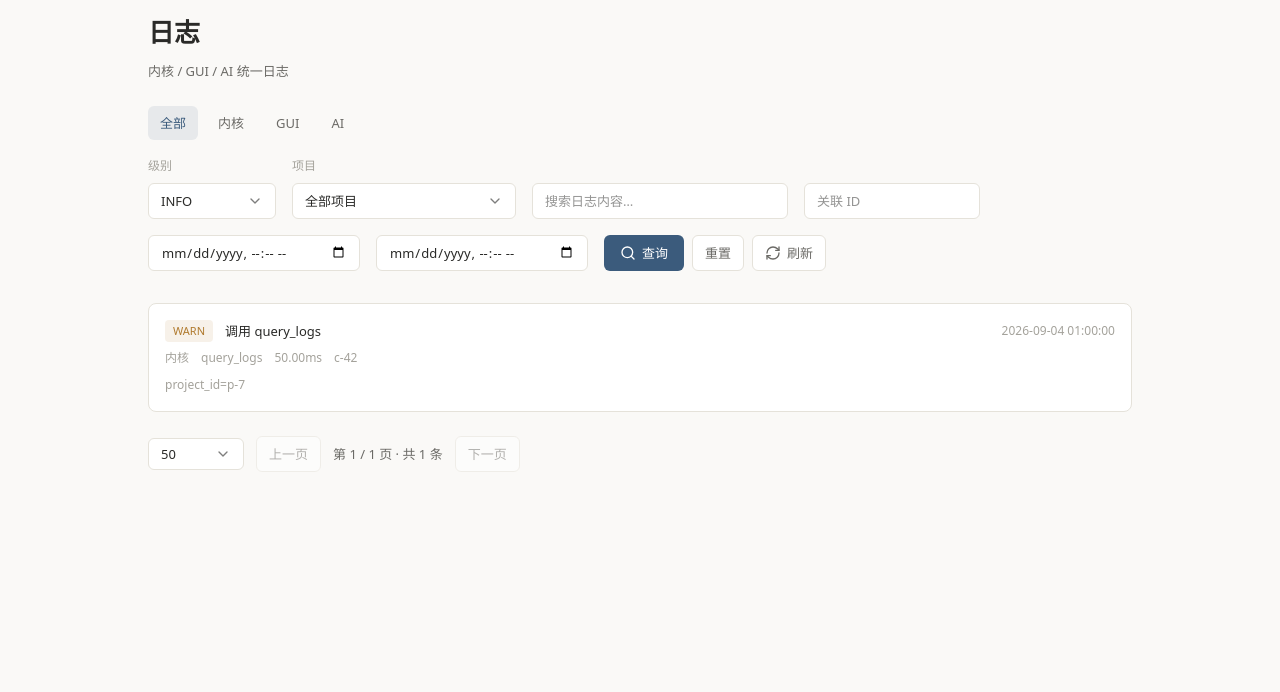
Scenario: 日志页 — #932 行点击详情（S2） › 【R】非 ERROR（WARN）行展开详情 → 无 log-detail-stack（stack 仅 ERROR 展示）
What coordinates should you click on to do the following:
click the list item with test id "log-row"
I would click on:
 (640, 358)
Its box is [148, 303, 1132, 412].
(page scrolled)
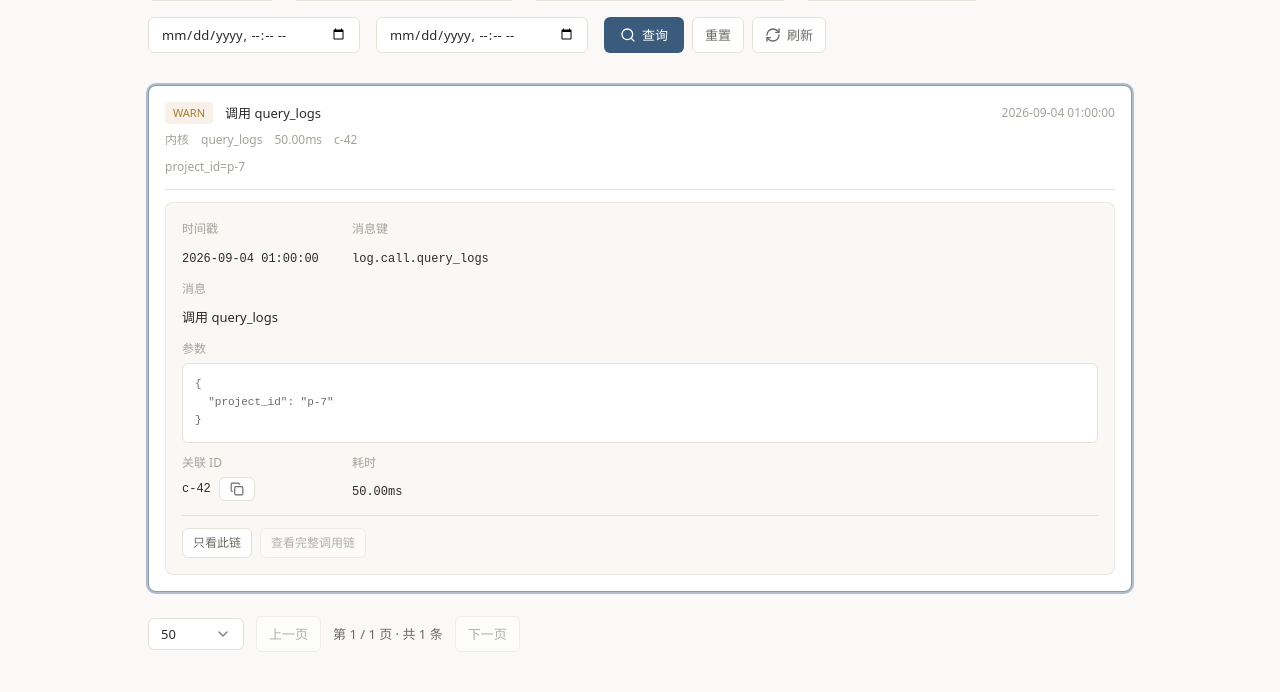
Expected: the element with test id "log-detail" is shown, [165, 202, 1115, 575]
